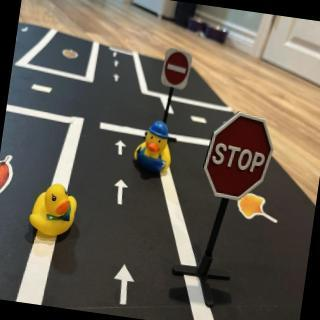duck_regular: (27, 181, 81, 244)
duck_specialty: (131, 119, 177, 183)
road_oneway: (111, 259, 138, 309), (112, 176, 132, 209), (114, 137, 128, 158), (20, 25, 32, 37), (112, 71, 122, 85), (114, 61, 120, 69), (113, 51, 119, 58)
sign_noentry: (160, 48, 194, 92)
sign_stop: (199, 110, 278, 208)
